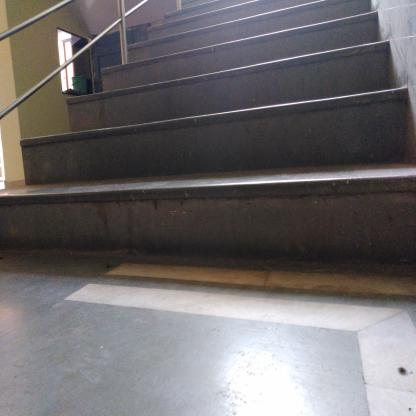stairs: (149, 7, 375, 273)
